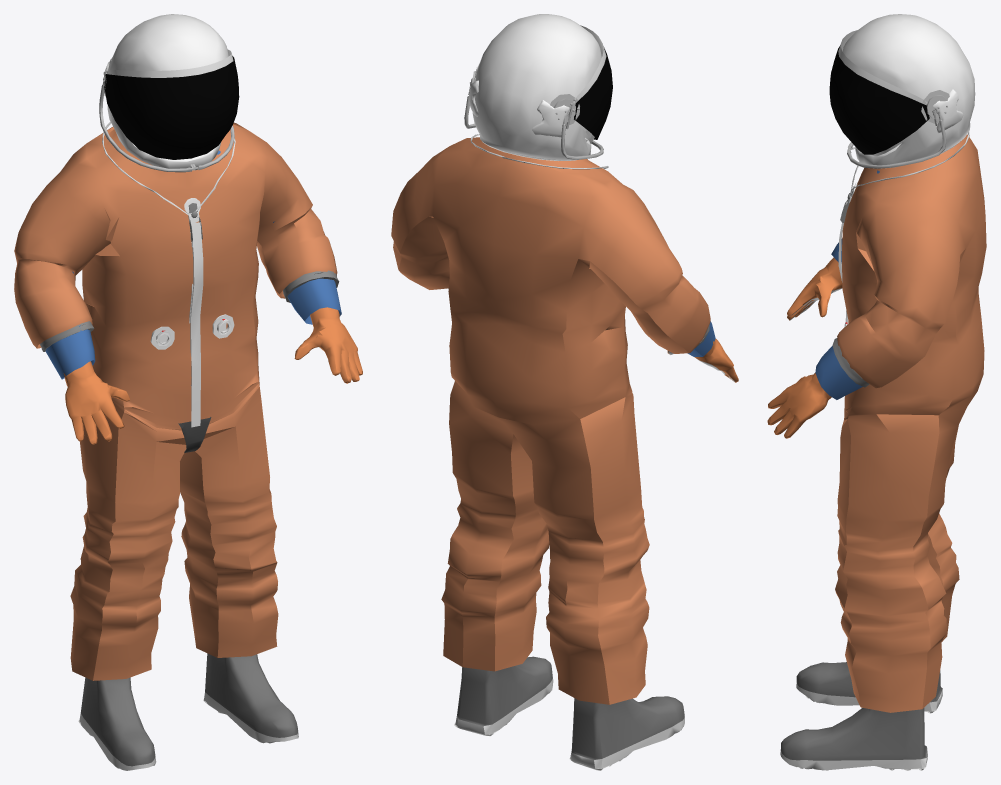
File: aces_lod1.glb
3 renders of one model, left to right at view 1: azimuth 30°, elevation 25°; view 2: azimuth 150°, elevation 25°; view 3: azimuth 270°, elevation 25°, orthographic. The views are drawn at different scales.
Visible parts, largest first — view 1: aces_lod1; view 2: aces_lod1; view 3: aces_lod1.
Part boxes in pixels (x1,y1,x2,y2): aces_lod1: (14,14,362,770); aces_lod1: (391,14,738,770); aces_lod1: (767,14,986,770).
Bounding box in the file's own units: 0.887 × 2 × 0.5545.
